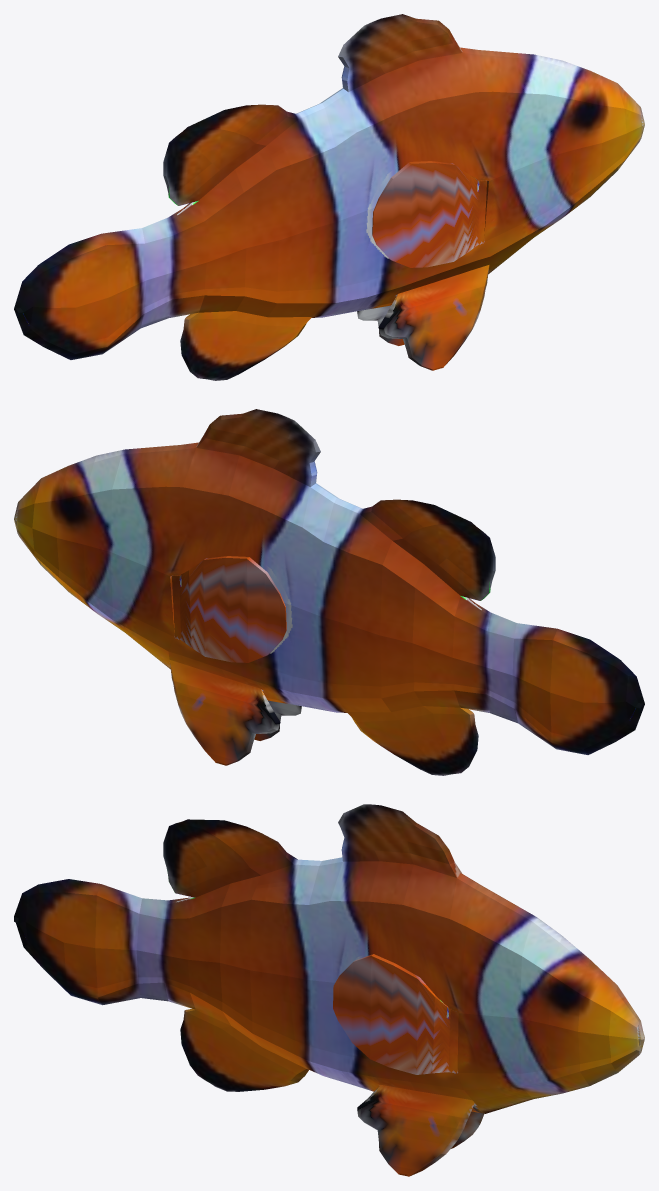
The model's file is clownfish.fbx.
3 renders of one model, top to bottom at view 1: azimuth 30°, elevation 25°; view 2: azimuth 150°, elevation 25°; view 3: azimuth 330°, elevation 25°, orthographic.
Visible parts, largest first — view 1: Fläche.001; view 2: Fläche.001; view 3: Fläche.001.
Boxes of the visible parts, bbox=[...] form: Fläche.001: bbox=[14, 14, 644, 380]; Fläche.001: bbox=[14, 409, 644, 775]; Fläche.001: bbox=[14, 804, 644, 1176].
Size of the model in its own units: 368 by 194 by 41.14.
